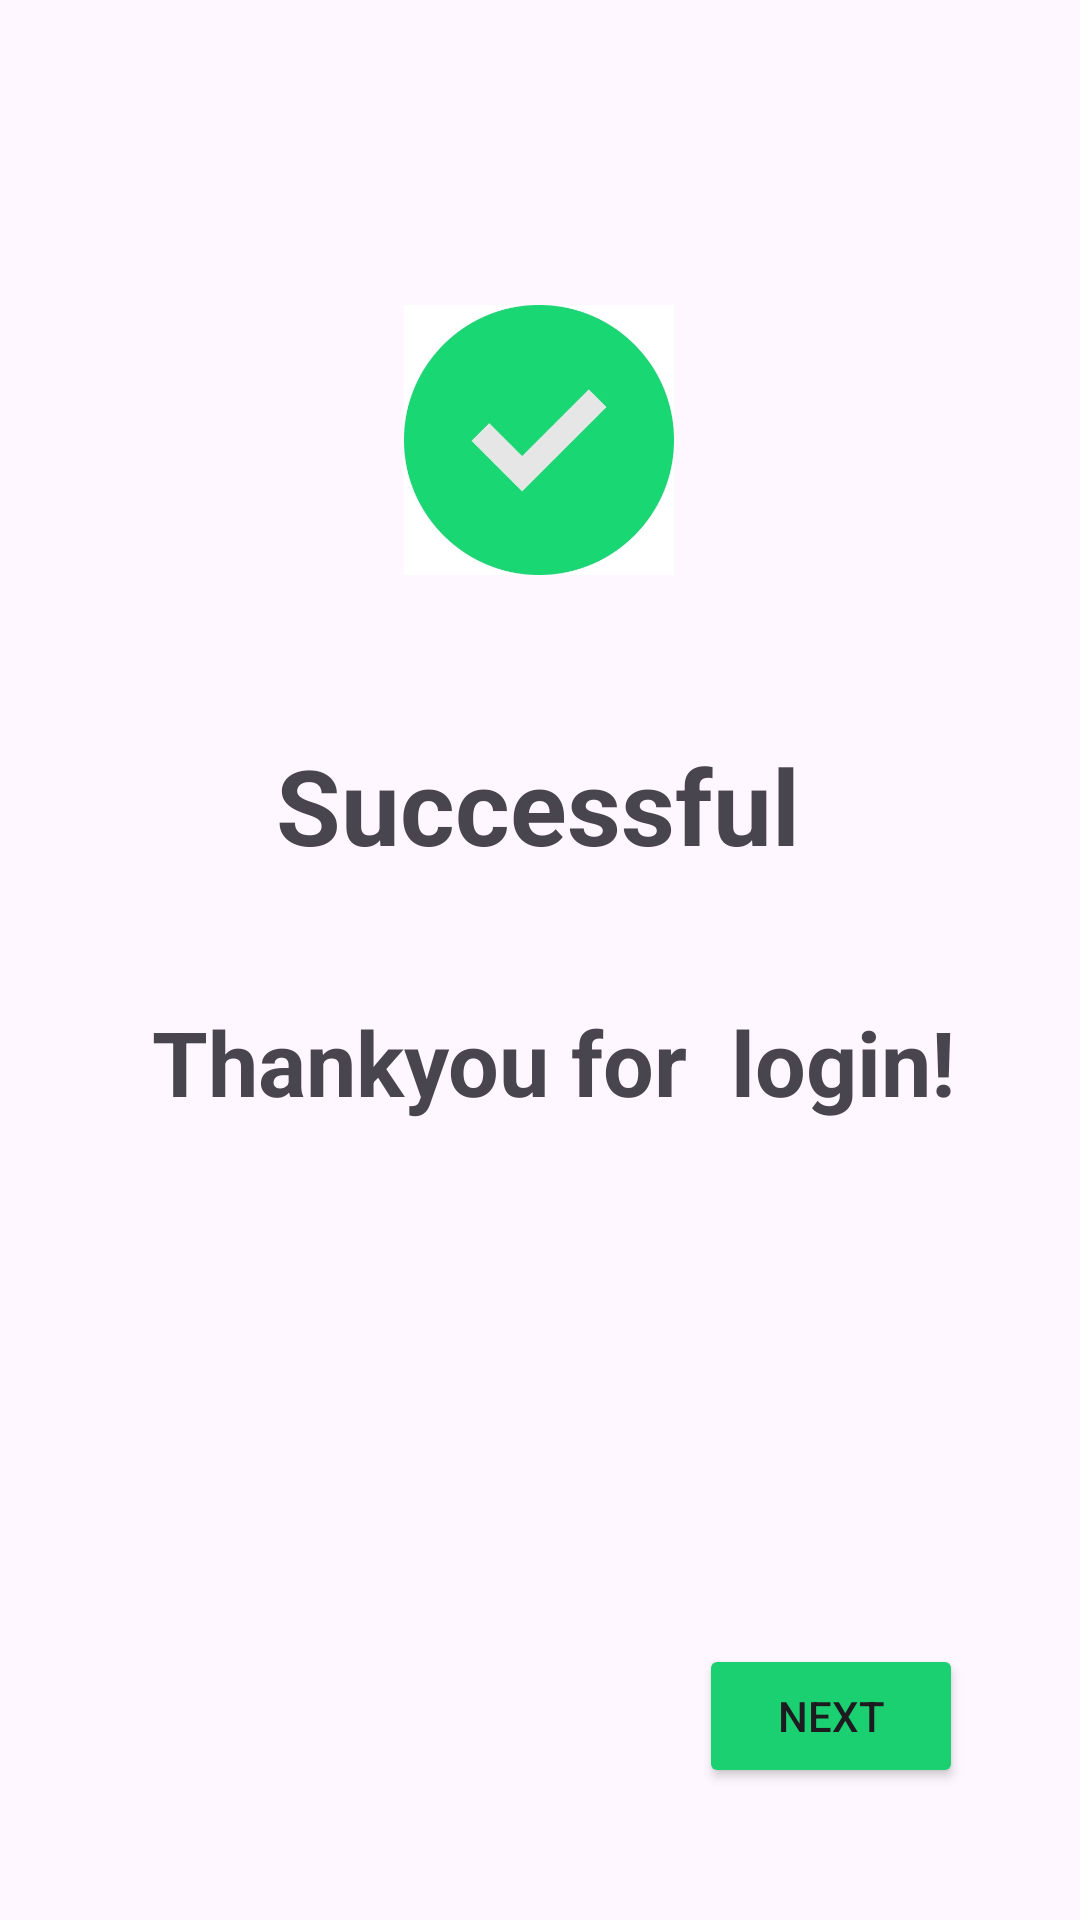

Icon bounding boxes for this 1080w x 1920h phone screenshot, format (x1, y1, x2, y2):
tick: (404, 305, 674, 575)
